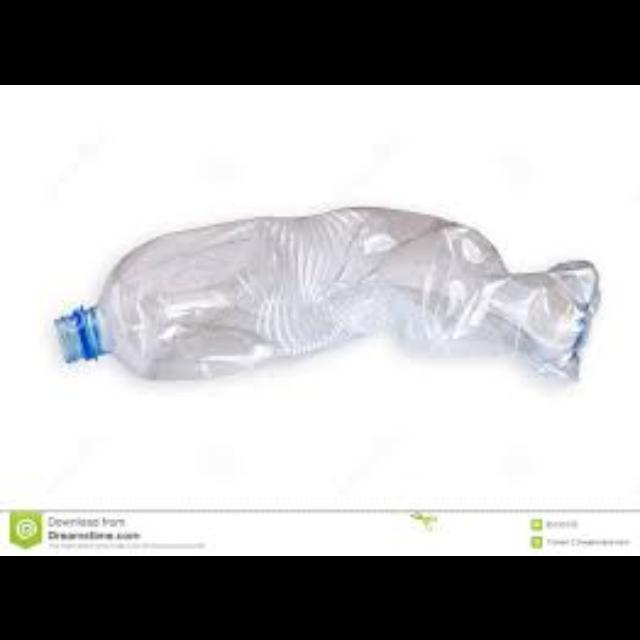trash: (48, 205, 600, 401)
